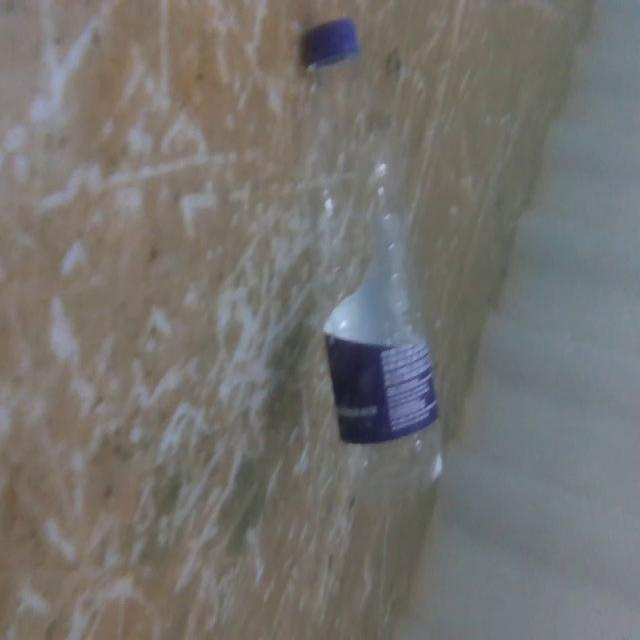plastic bottle: (290, 18, 459, 505)
